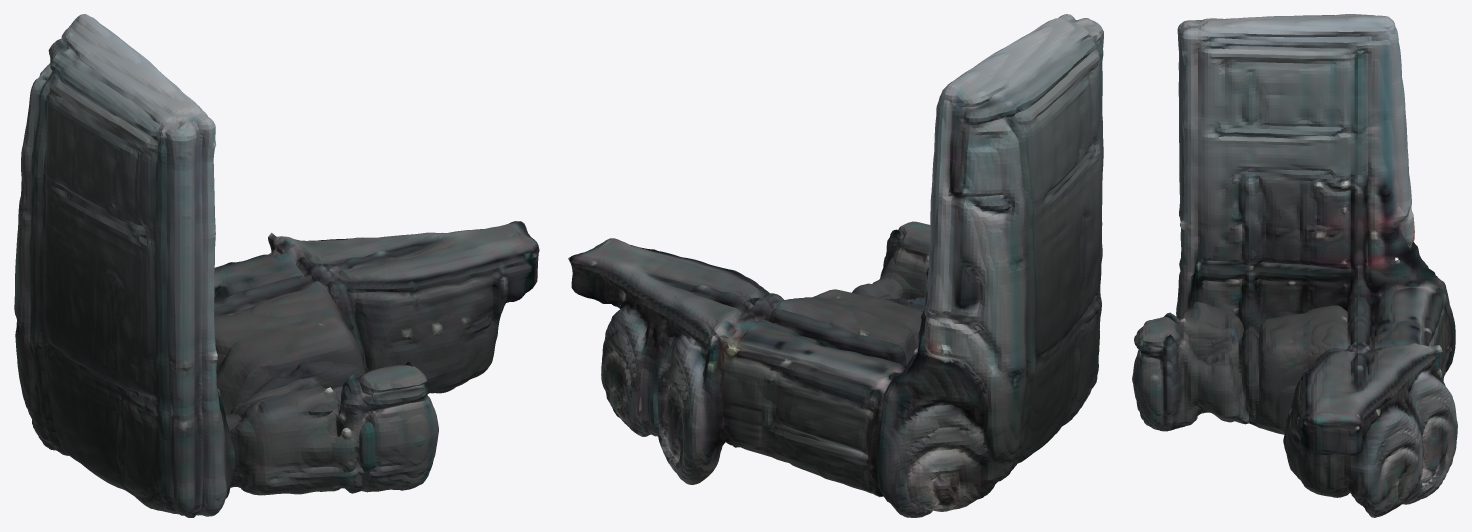
The model's file is truck-side.glb.
3 renders of one model, left to right at view 1: azimuth 30°, elevation 25°; view 2: azimuth 150°, elevation 25°; view 3: azimuth 270°, elevation 25°, orthographic. The views are drawn at different scales.
Visible parts, largest first — view 1: world; view 2: world; view 3: world.
Boxes of the visible parts, x1=… form: world: x1=14, y1=14, x2=539, y2=517; world: x1=568, y1=14, x2=1103, y2=517; world: x1=1132, y1=14, x2=1457, y2=517.
Bounding box in the file's own units: 0.931 × 0.8382 × 0.6528.
